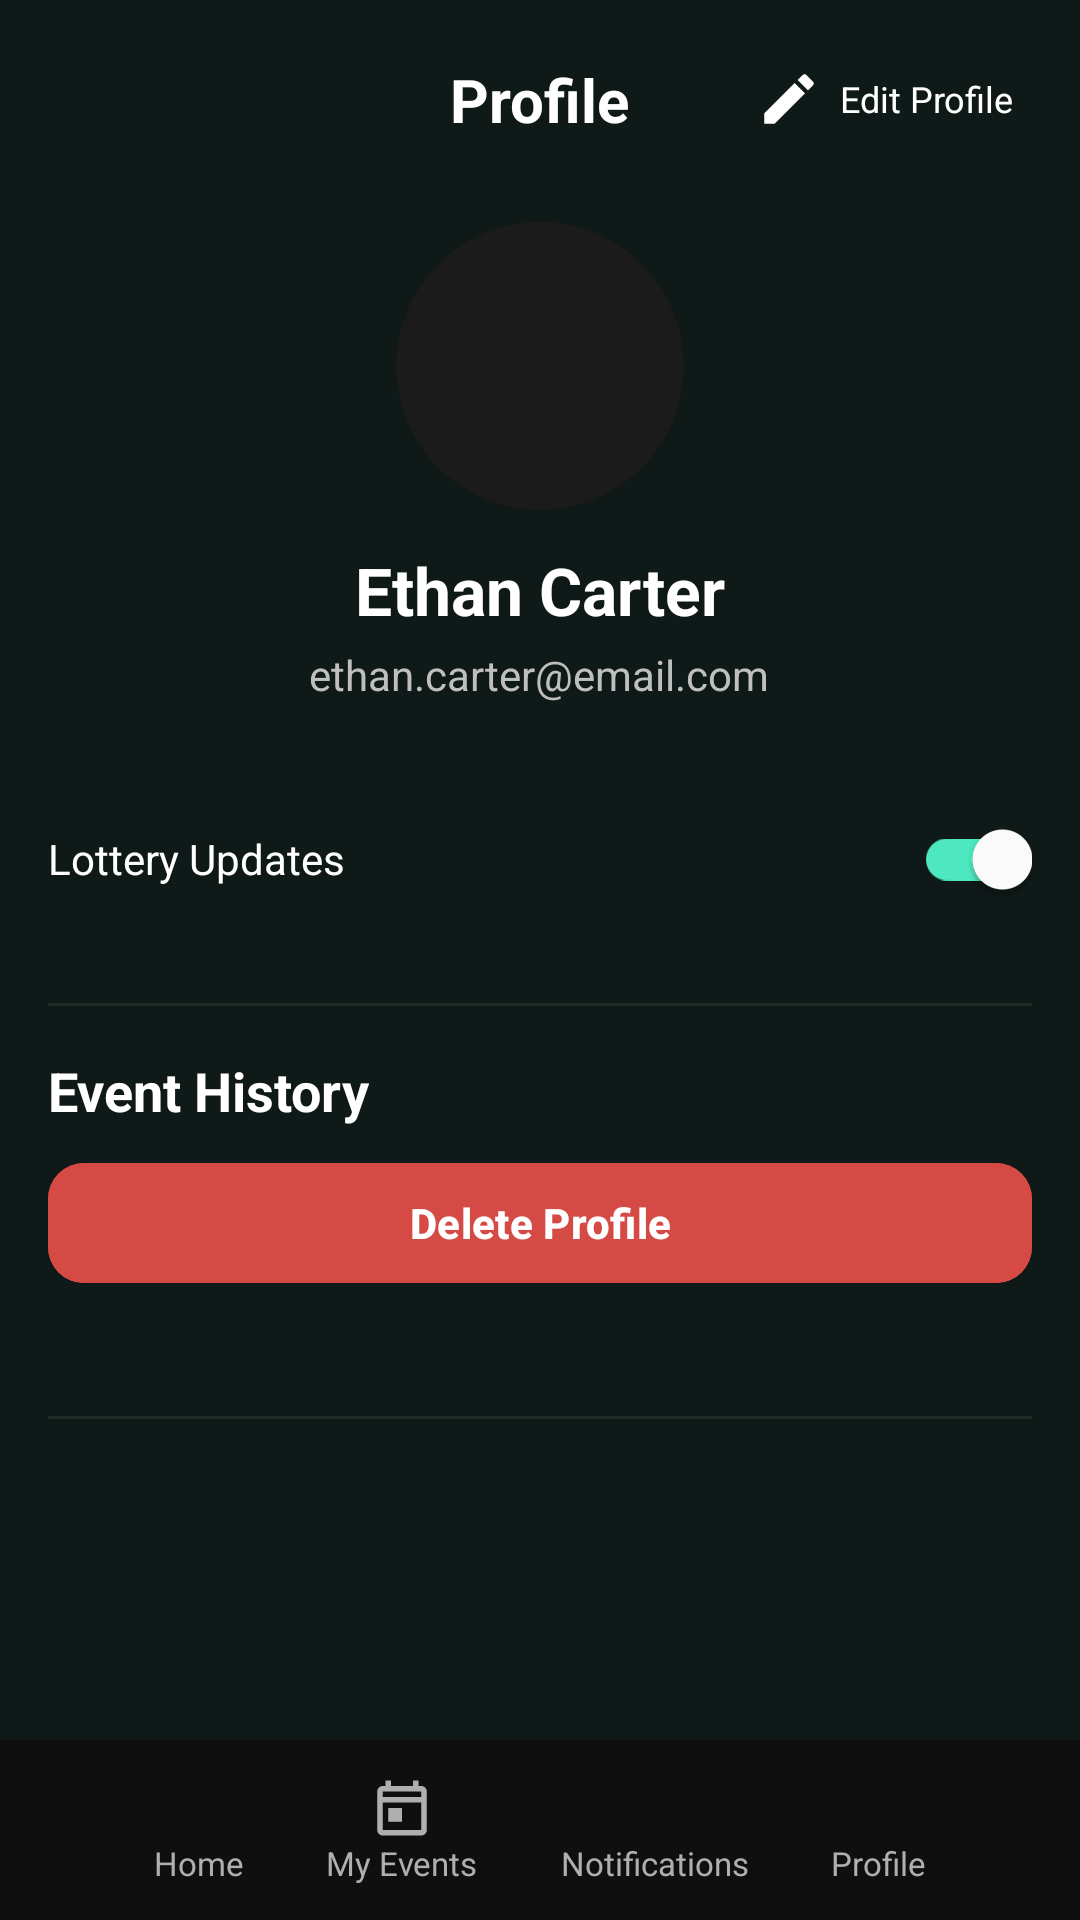

Icons on this 1080px x 1920px Android screen, each with the point to tap as [x,y]:
calendar: [402,1808]
